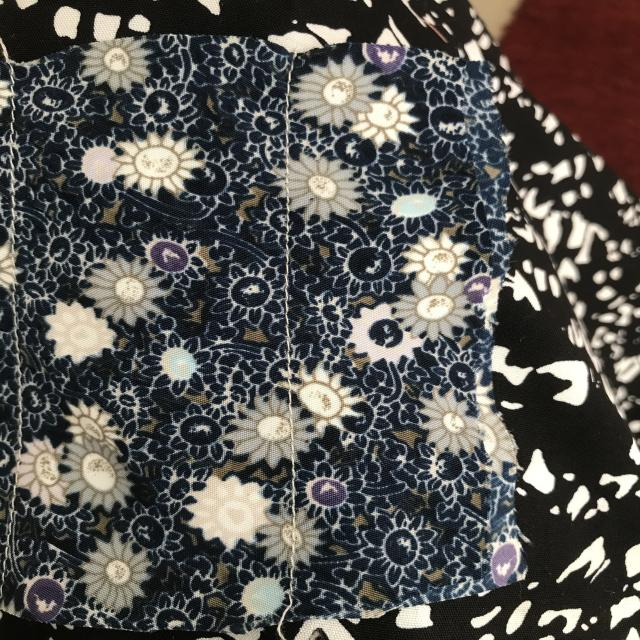good: (273, 220, 300, 358), (285, 408, 306, 519)
